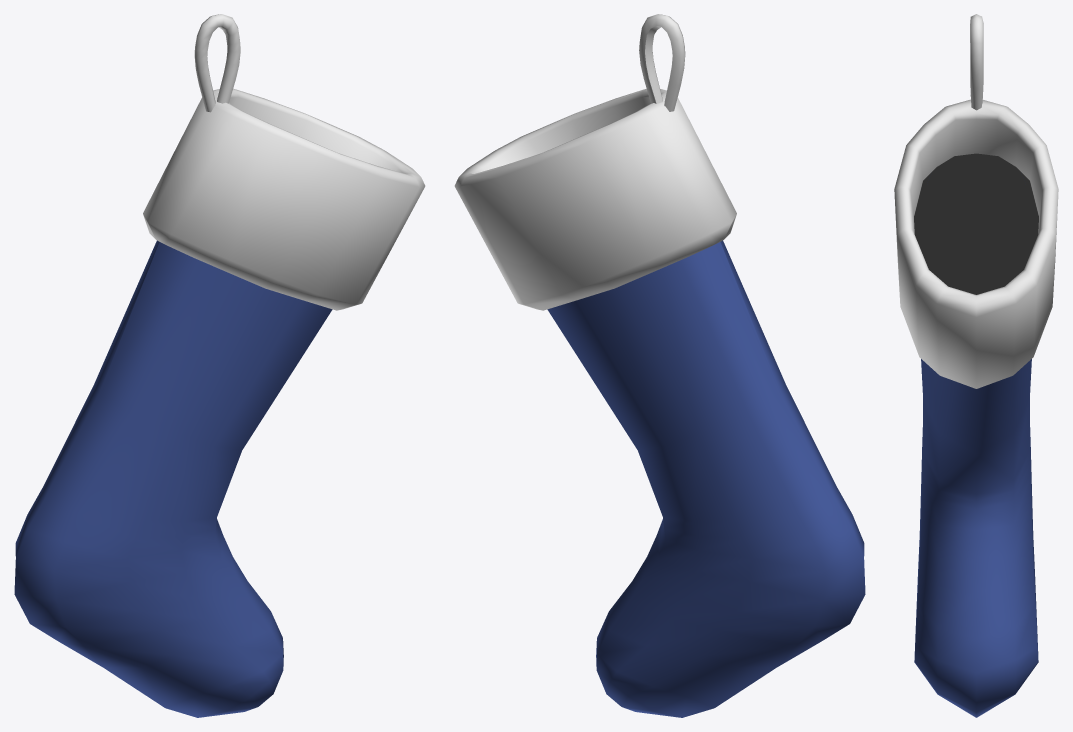
Rendered from ChristmasSock_01.fbx.
3 views of the same model, side by side, from view 1: azimuth 30°, elevation 25°; view 2: azimuth 150°, elevation 25°; view 3: azimuth 270°, elevation 25° (orthographic). The views are drawn at different scales.
Visible parts, largest first — view 1: ChristmasSock_01; view 2: ChristmasSock_01; view 3: ChristmasSock_01.
Part boxes in pixels (bbox=[...]): ChristmasSock_01: bbox=[14, 14, 425, 717]; ChristmasSock_01: bbox=[454, 14, 865, 717]; ChristmasSock_01: bbox=[894, 14, 1058, 717].
Size of the model in its own units: 0.3302 by 0.5525 by 0.1194.
